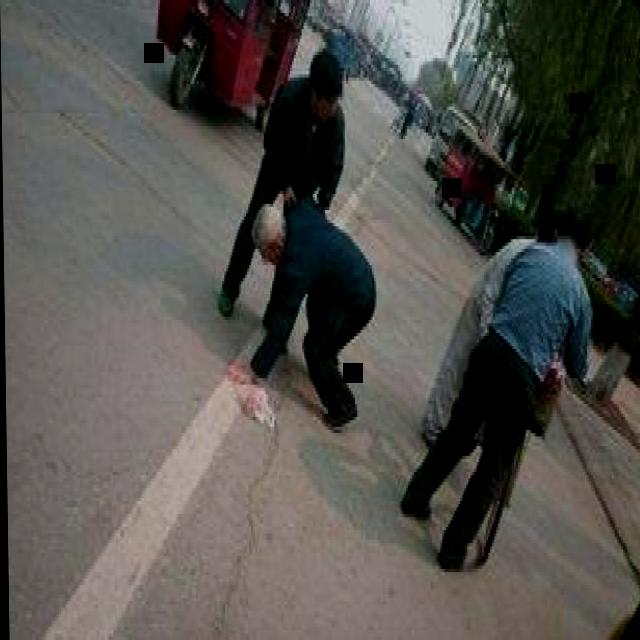Fall-Detected: (223, 184, 394, 430)
